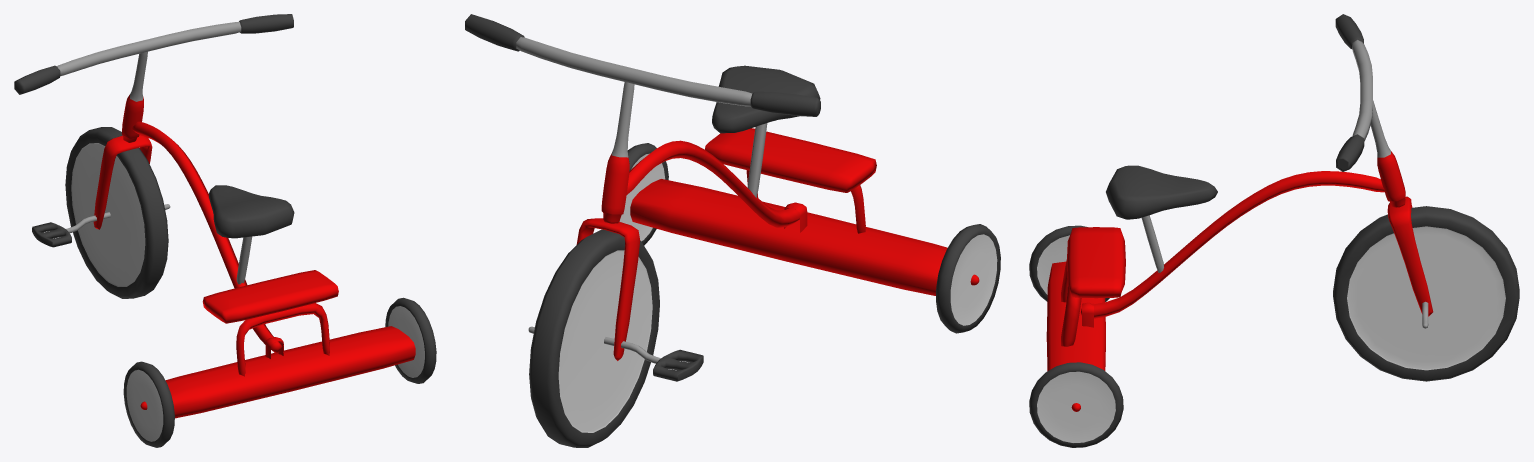
File: Trike_01.fbx
3 renders of one model, left to right at view 1: azimuth 30°, elevation 25°; view 2: azimuth 150°, elevation 25°; view 3: azimuth 270°, elevation 25°, orthographic. The views are drawn at different scales.
Parts seen in each view (by area): view 1: Trike_body1, FrontWheel, BackWheels1; view 2: Trike_body1, FrontWheel, BackWheels1; view 3: FrontWheel, Trike_body1, BackWheels1.
Part boxes in pixels (x1,y1,x2,y2): Trike_body1: (14,14,415,418); FrontWheel: (65,127,168,298); BackWheels1: (123,297,436,447); Trike_body1: (465,14,947,381); FrontWheel: (529,229,659,447); BackWheels1: (619,143,1000,333); FrontWheel: (1333,206,1519,381); Trike_body1: (1046,14,1433,371); BackWheels1: (1029,225,1123,447).
Size of the model in its own units: 7.45 by 7.06 by 10.63.
